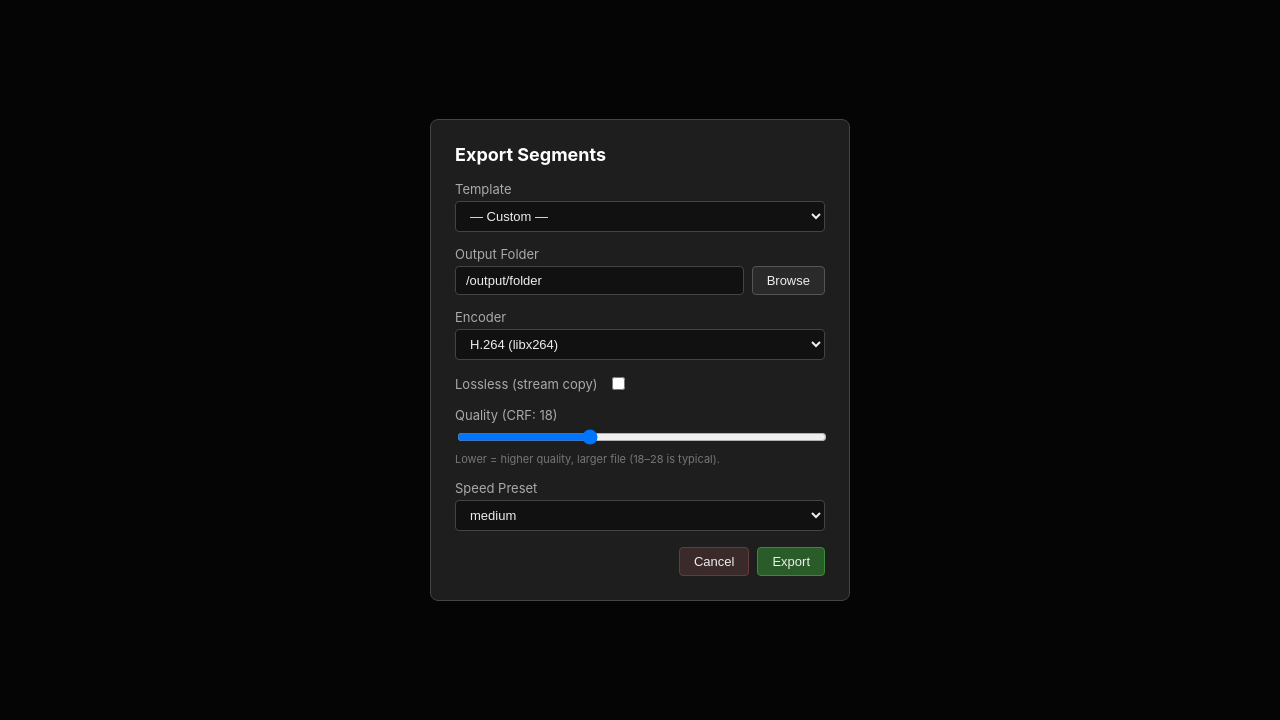
ExportDialog › hides Speed Preset when a GPU encoder is selected
Select "H.264 — NVIDIA GPU" in the dropdown named "codec" at point(640, 344), box [455, 329, 825, 360]
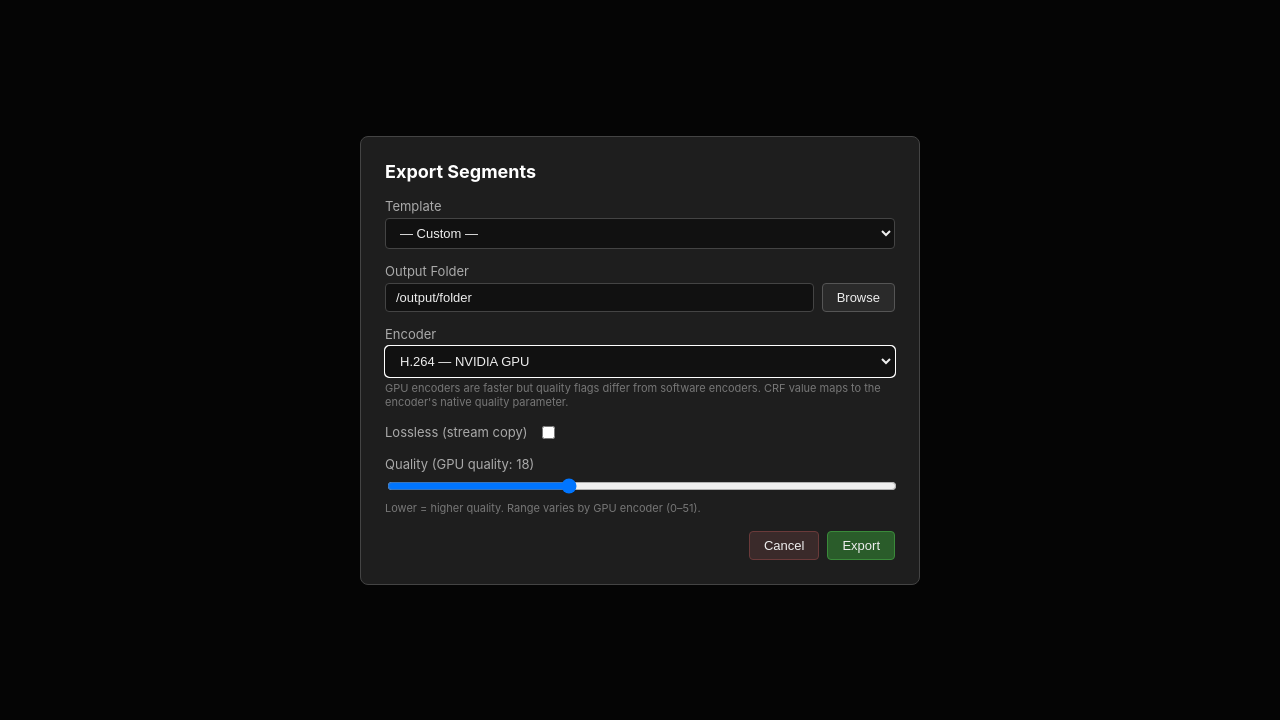
Expected: the label labelled "Preset" is gone
